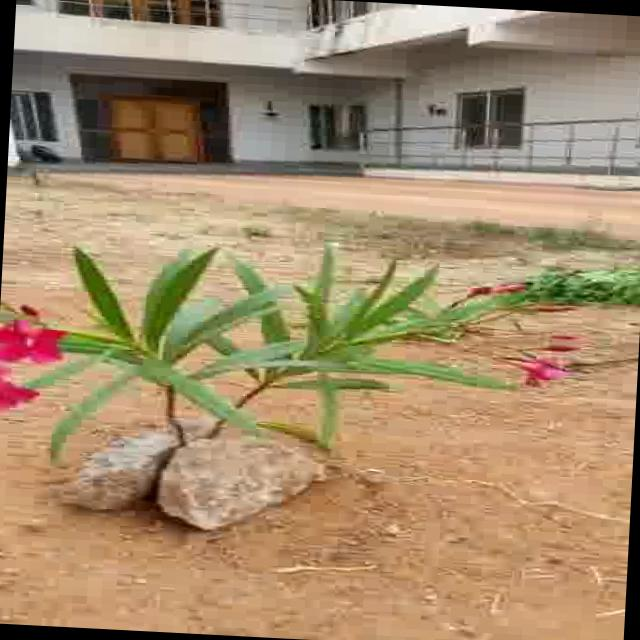Oleander: (22, 240, 614, 470)
